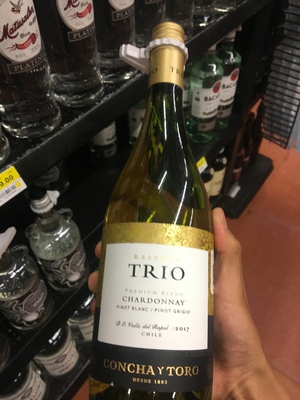trio chardonnay: (89, 44, 223, 400)
